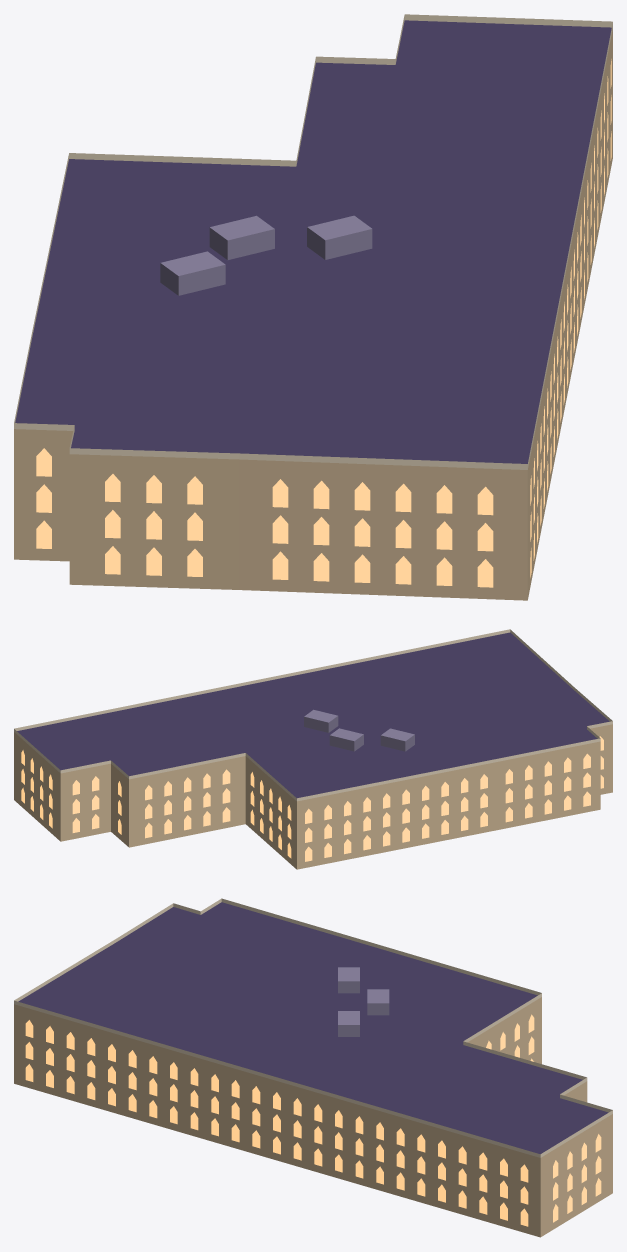
File: b-095-john-labatt-visual-art-centre.glb
3 views of the same model, one above another, from view 1: azimuth 30°, elevation 25°; view 2: azimuth 150°, elevation 25°; view 3: azimuth 270°, elevation 25° (orthographic). The views are drawn at different scales.
Visible parts, largest first — view 1: campus/b-095-john-labatt-visual-art-centre-0; view 2: campus/b-095-john-labatt-visual-art-centre-0; view 3: campus/b-095-john-labatt-visual-art-centre-0.
Boxes of the visible parts, x1,y1,x2,y2 form: campus/b-095-john-labatt-visual-art-centre-0: (14,14,612,600); campus/b-095-john-labatt-visual-art-centre-0: (14,629,612,869); campus/b-095-john-labatt-visual-art-centre-0: (14,898,612,1237).
Bounding box in the file's own units: 82.09 × 13.7 × 81.22.
